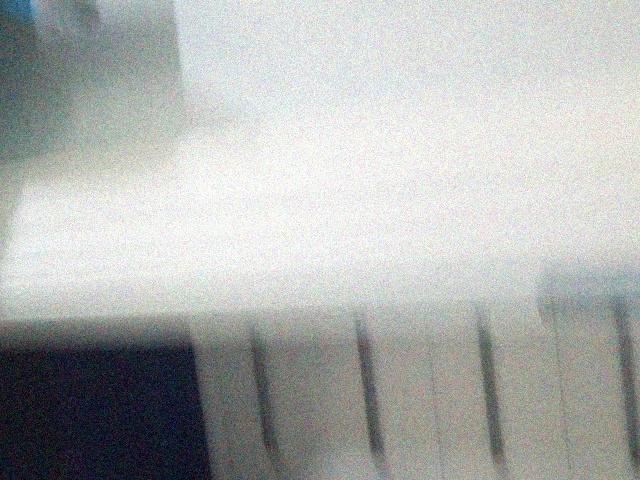shadow: (0, 343, 214, 480)
